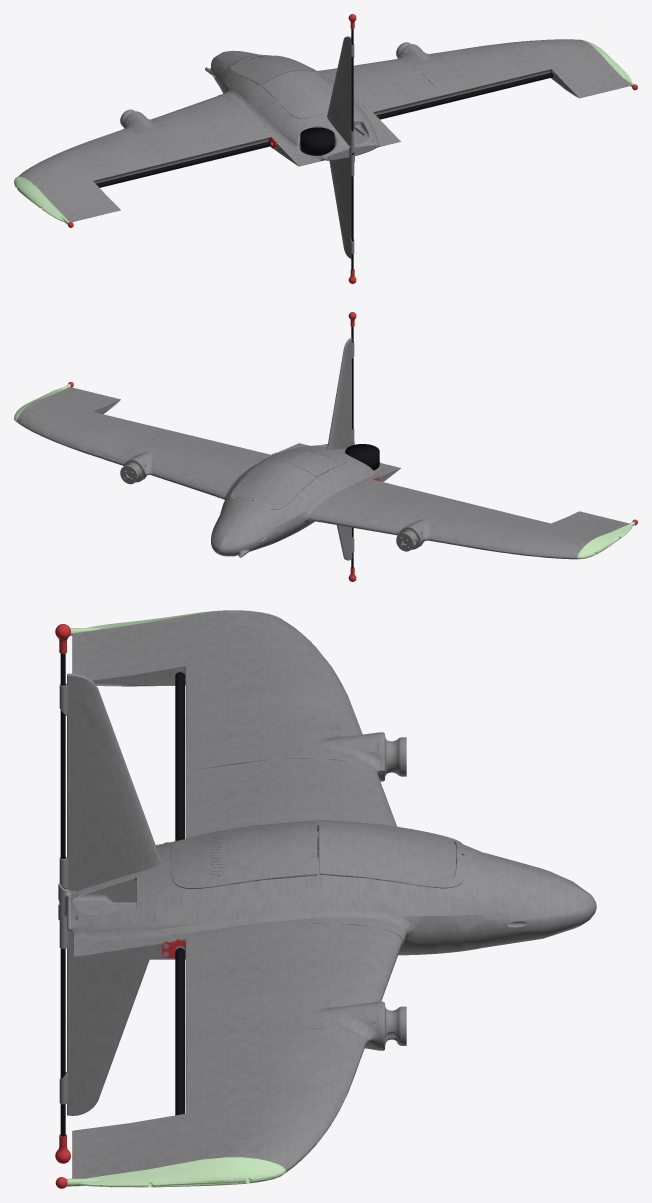
File: airframe.glb
3 views of the same model, one above another, from view 1: azimuth 30°, elevation 25°; view 2: azimuth 150°, elevation 25°; view 3: azimuth 270°, elevation 25° (orthographic). The views are drawn at different scales.
Visible parts, largest first — view 1: Wing_L4_R, Wing_L4, Wing_L1, Wing_L2, Wing_L1_R, Wing_L2_R, Fuselage_3, Canopy_1, Fuselage_4, Vertical_Stabilizer_Up, Vertical_Stabilizer_Down, Canopy_2 (+10 smaller); view 2: Wing_L4, Wing_L4_R, Wing_L1, Wing_L1_R, Fuselage_2, Wing_L2, Wing_L2_R, Fuselage_1, Canopy_2, Vertical_Stabilizer_Up, Fuselage_3, Canopy_1 (+8 smaller); view 3: Wing_L4_R, Wing_L4, Wing_L1_R, Vertical_Stabilizer_Up, Wing_L1, Wing_L2_R, Wing_L2, Fuselage_2, Vertical_Stabilizer_Down, Fuselage_3, Canopy_1, Canopy_2 (+10 smaller).
Boxes of the visible parts, left/top/right/bottom form: Wing_L4_R: left=486, top=39, right=630, bottom=98; Wing_L4: left=18, top=144, right=120, bottom=221; Wing_L1: left=156, top=95, right=270, bottom=163; Wing_L2: left=82, top=126, right=200, bottom=182; Wing_L1_R: left=322, top=59, right=442, bottom=119; Wing_L2_R: left=414, top=45, right=523, bottom=104; Fuselage_3: left=237, top=72, right=379, bottom=151; Canopy_1: left=261, top=70, right=333, bottom=118; Fuselage_4: left=278, top=115, right=400, bottom=166; Vertical_Stabilizer_Up: left=327, top=36, right=354, bottom=145; Vertical_Stabilizer_Down: left=329, top=158, right=354, bottom=258; Canopy_2: left=230, top=55, right=315, bottom=85; Wing_L4: left=483, top=511, right=629, bottom=559; Wing_L4_R: left=16, top=387, right=120, bottom=451; Wing_L1: left=318, top=479, right=442, bottom=534; Wing_L1_R: left=153, top=438, right=270, bottom=496; Fuselage_2: left=216, top=465, right=337, bottom=545; Wing_L2: left=414, top=497, right=522, bottom=549; Wing_L2_R: left=79, top=418, right=200, bottom=465; Fuselage_1: left=211, top=507, right=275, bottom=557; Canopy_2: left=230, top=462, right=315, bottom=509; Vertical_Stabilizer_Up: left=327, top=338, right=354, bottom=449; Fuselage_3: left=237, top=447, right=380, bottom=496; Canopy_1: left=262, top=447, right=346, bottom=477; Wing_L4_R: left=72, top=1076, right=348, bottom=1178; Wing_L4: left=72, top=610, right=347, bottom=694; Wing_L1_R: left=185, top=923, right=402, bottom=1007; Vertical_Stabilizer_Up: left=59, top=673, right=161, bottom=890; Wing_L1: left=185, top=758, right=396, bottom=838; Wing_L2_R: left=185, top=994, right=365, bottom=1090; Wing_L2: left=185, top=682, right=362, bottom=771; Fuselage_2: left=323, top=841, right=484, bottom=955; Vertical_Stabilizer_Down: left=59, top=917, right=149, bottom=1115; Fuselage_3: left=156, top=821, right=322, bottom=959; Canopy_1: left=170, top=820, right=317, bottom=888; Canopy_2: left=319, top=819, right=463, bottom=888.
Size of the model in its own units: 1.37 by 0.6059 by 0.5522.
4 materials, 1 textured.
